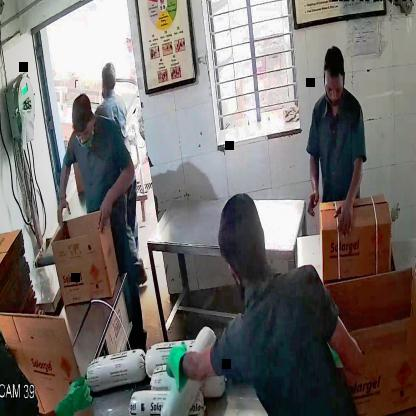no_goggles: (321, 77, 347, 100)
